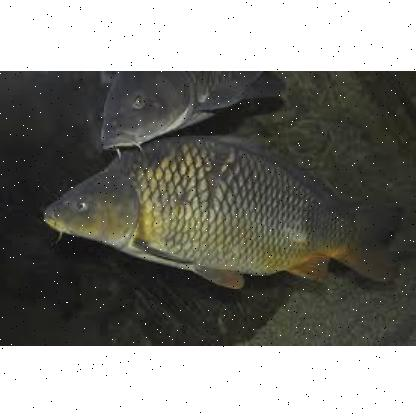ikan-mas: (42, 132, 384, 282), (82, 70, 278, 142)
